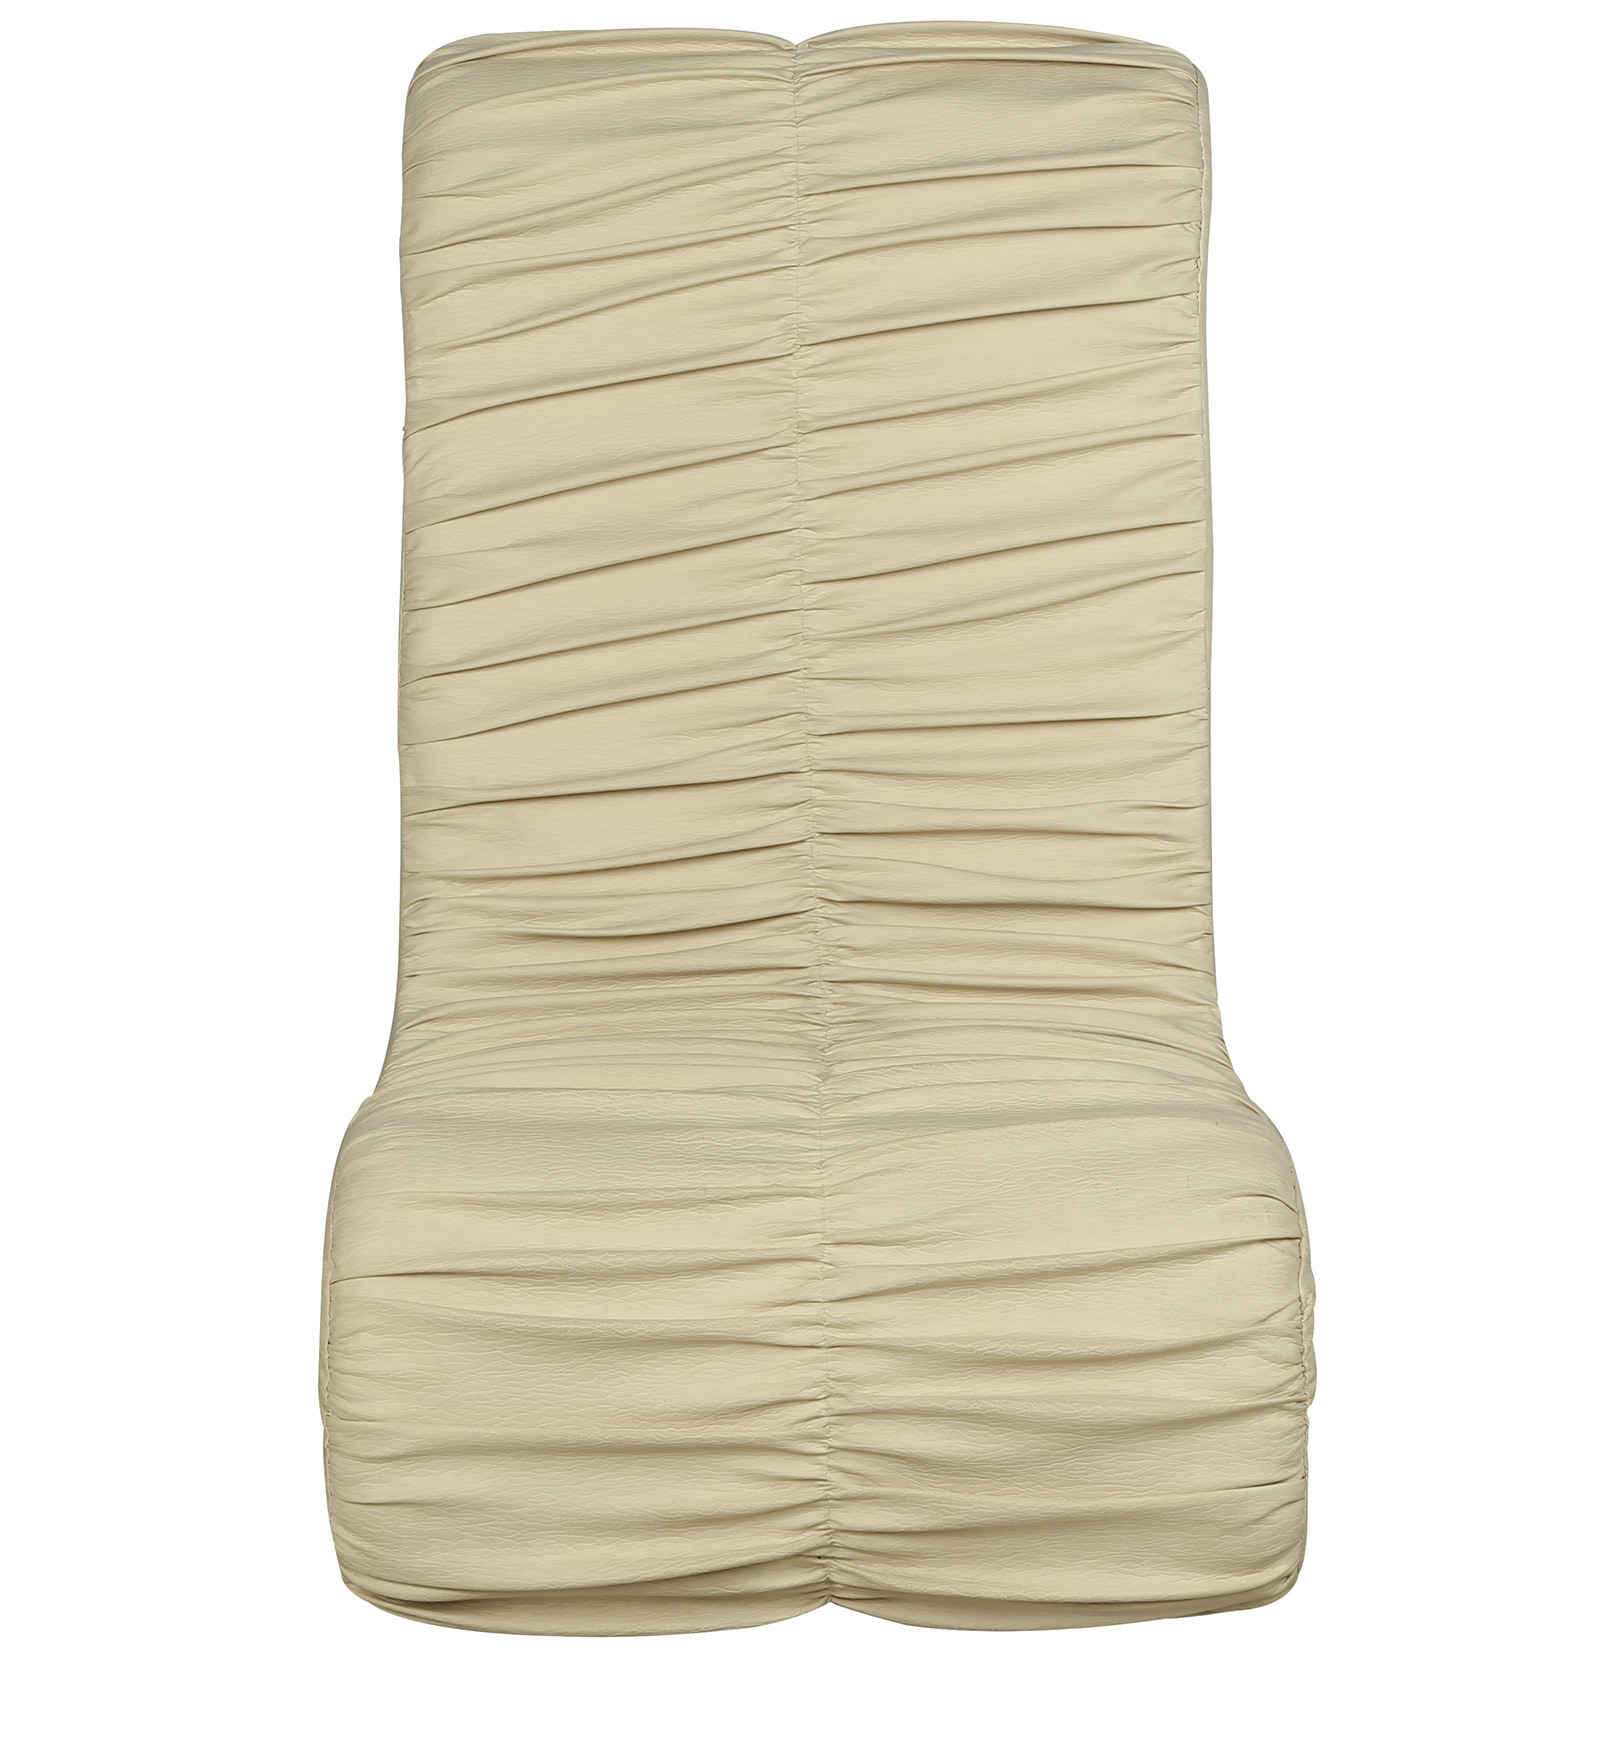Daisy Rocking Chair in Ivory Colour by Parin: (319, 20, 1333, 1677)
